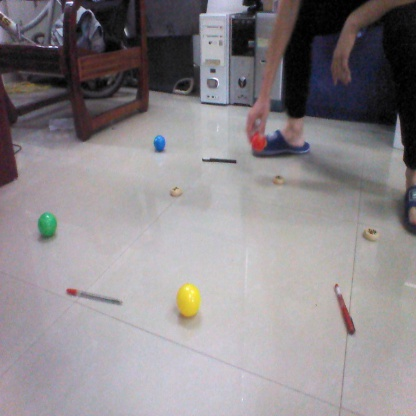ball: (174, 283, 203, 317), (37, 211, 58, 238), (250, 132, 268, 150), (153, 135, 169, 149)
chess: (361, 227, 381, 241), (271, 175, 286, 185), (170, 186, 184, 195)
pen: (334, 286, 357, 336), (64, 291, 122, 306), (202, 156, 237, 165)
